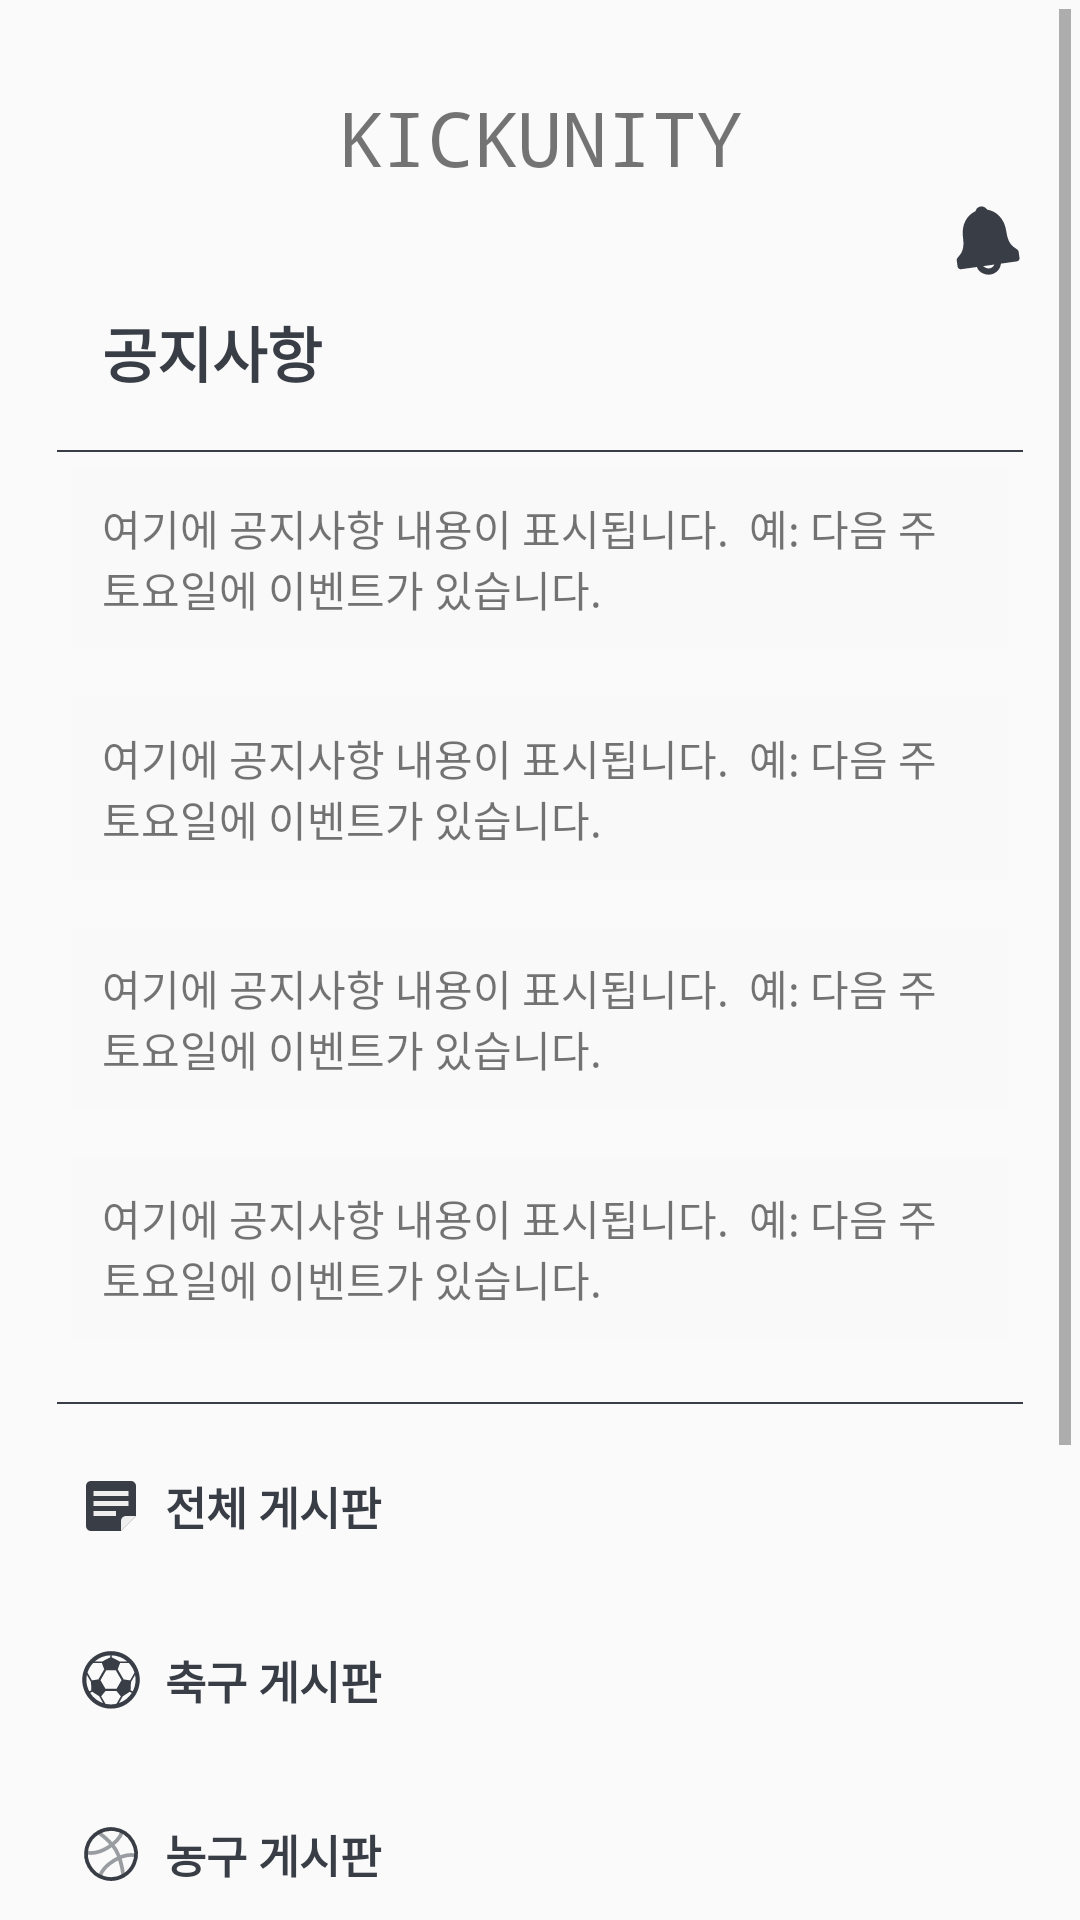

Screen size 1080w x 1920h. Icon name, then its center in pixels as (x,y):
bell: (988,240)
